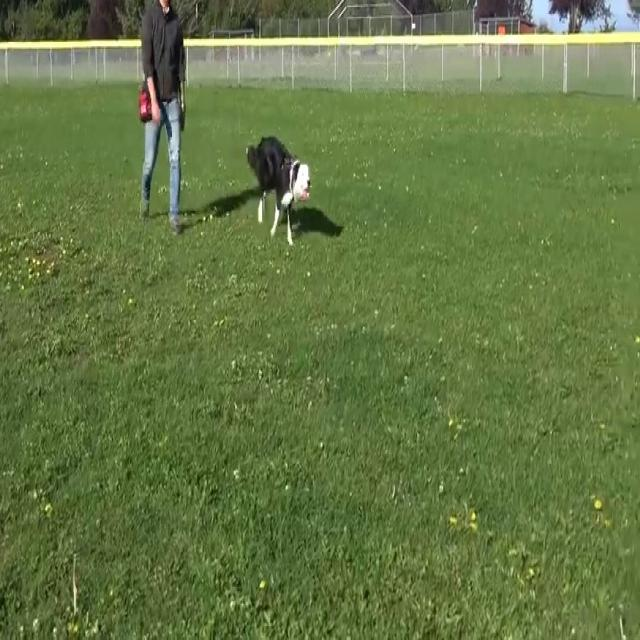Unleashed_Dog: (168, 138, 312, 246)
